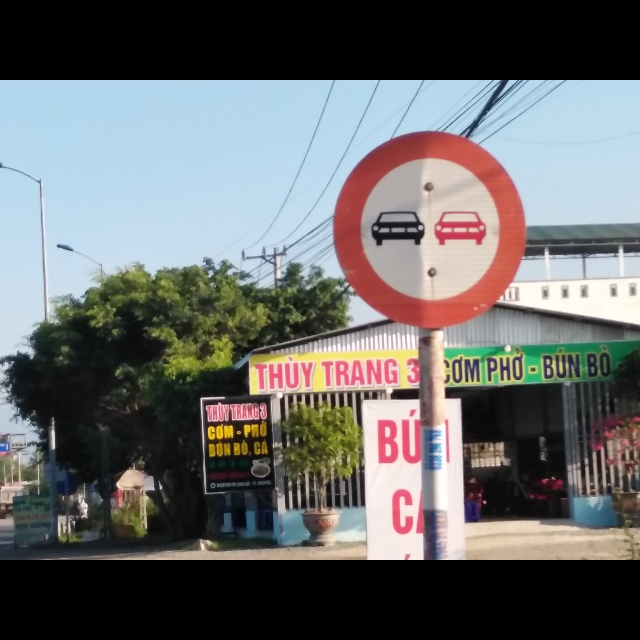Cấm vượt: (334, 134, 528, 332)
